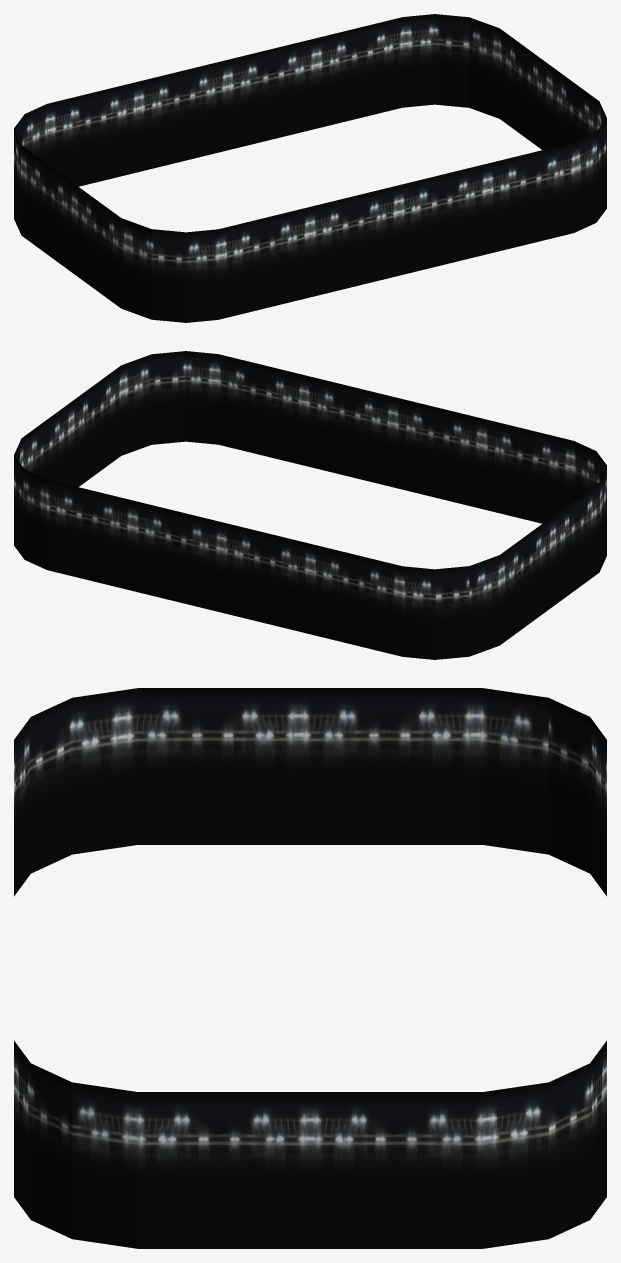
File: publico.FBX
The picture shows the model from 3 angles, top to bottom: view 1: azimuth 30°, elevation 25°; view 2: azimuth 150°, elevation 25°; view 3: azimuth 270°, elevation 25°; orthographic projection. The views are drawn at different scales.
Parts seen in each view (by area): view 1: publico; view 2: publico; view 3: publico.
Part boxes in pixels (<box>): publico: <box>14,14,606,322</box>; publico: <box>14,351,606,659</box>; publico: <box>14,688,606,1248</box>.
Bounding box in the file's own units: 145 × 26.21 × 89.83.
